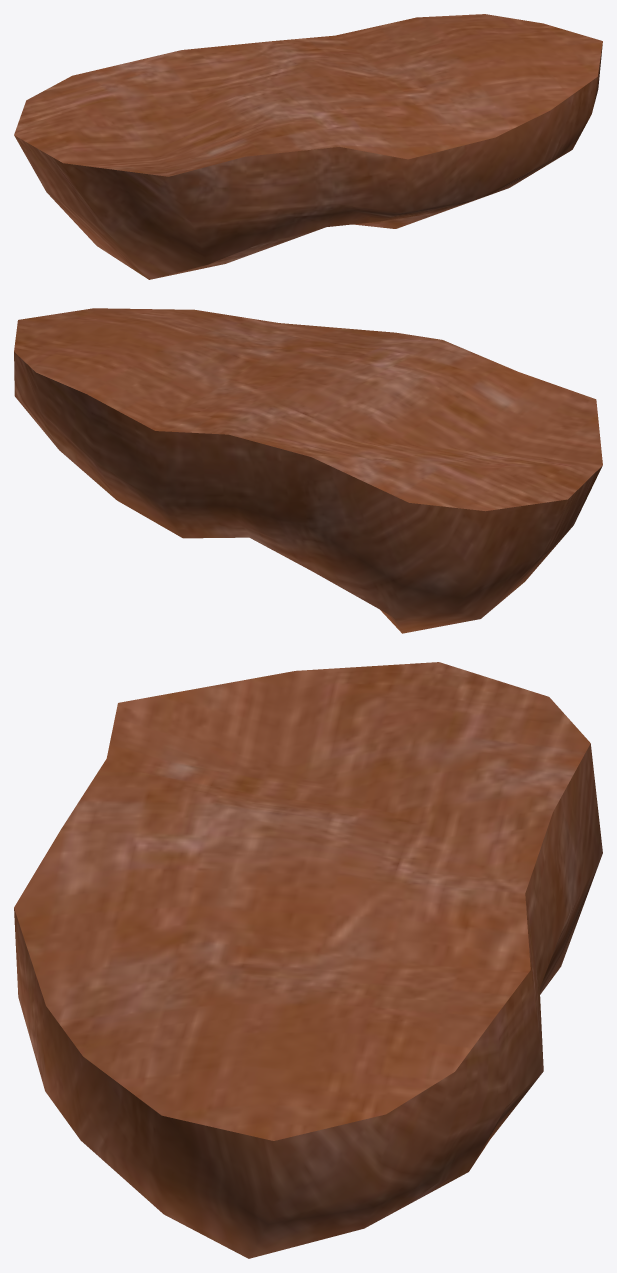
The model's file is Canyon_Rock_Platforms_3.glb.
The picture shows the model from 3 angles, top to bottom: view 1: azimuth 30°, elevation 25°; view 2: azimuth 150°, elevation 25°; view 3: azimuth 270°, elevation 25°; orthographic projection. The views are drawn at different scales.
Parts seen in each view (by area): view 1: Canyon_Rock_Platforms_3_0; view 2: Canyon_Rock_Platforms_3_0; view 3: Canyon_Rock_Platforms_3_0.
Part boxes in pixels (<box>): Canyon_Rock_Platforms_3_0: <box>14,14,602,279</box>; Canyon_Rock_Platforms_3_0: <box>14,308,602,633</box>; Canyon_Rock_Platforms_3_0: <box>14,662,602,1258</box>.
Bounding box in the file's own units: 10.92 × 3.29 × 5.77.
Materials: 1 (1 with a texture image).
